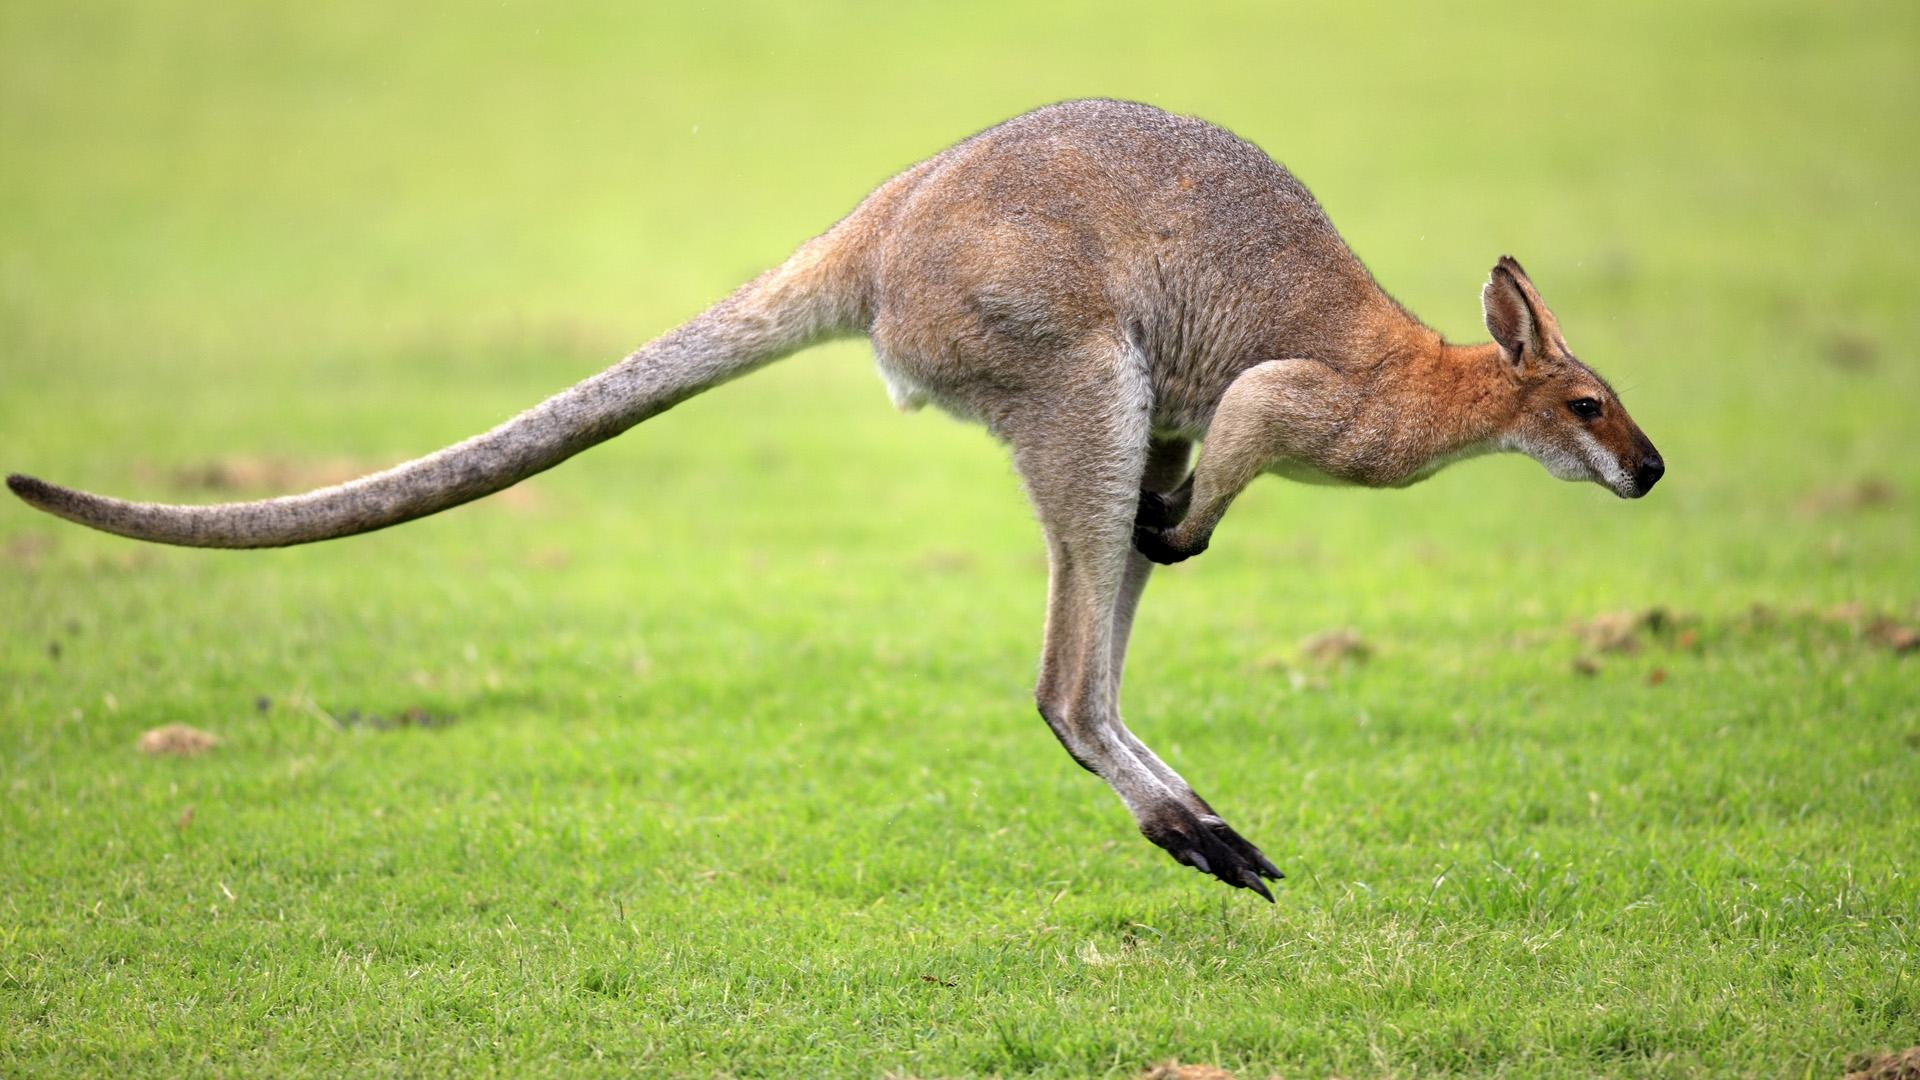kangaroo: (1, 98, 1667, 910)
